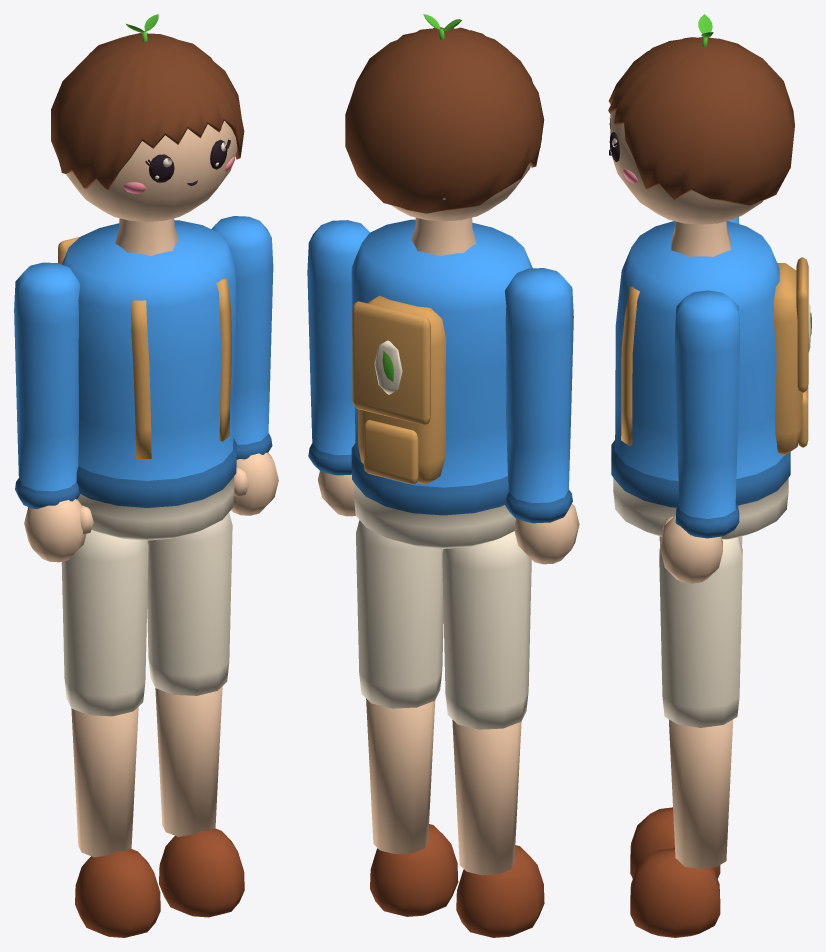
Rendered from hero-grown.glb.
The picture shows the model from 3 angles, left to right: view 1: azimuth 30°, elevation 25°; view 2: azimuth 150°, elevation 25°; view 3: azimuth 270°, elevation 25°; orthographic projection. The views are drawn at different scales.
Parts seen in each view (by area): view 1: body, head, leg-left, leg-right, arm-left, arm-right; view 2: body, head, leg-left, leg-right, arm-left, arm-right; view 3: body, head, leg-right, arm-right, leg-left.
Boxes of the visible parts, x1,y1,x2,y2 form: body: (58,220,236,540); head: (51,33,244,255); leg-left: (61,530,160,937); leg-right: (147,512,244,917); arm-left: (14,262,93,562); arm-right: (211,216,278,515); body: (351,219,532,548); head: (345,27,544,256); leg-left: (442,531,544,937); leg-right: (356,520,458,916); arm-left: (504,268,579,564); arm-right: (307,220,369,516); body: (611,221,811,539); head: (608,37,794,256); leg-right: (630,537,742,937); arm-right: (660,290,739,583); leg-left: (630,536,742,878).
Bounding box in the file's own units: 0.8945 × 3.03 × 0.6326.
